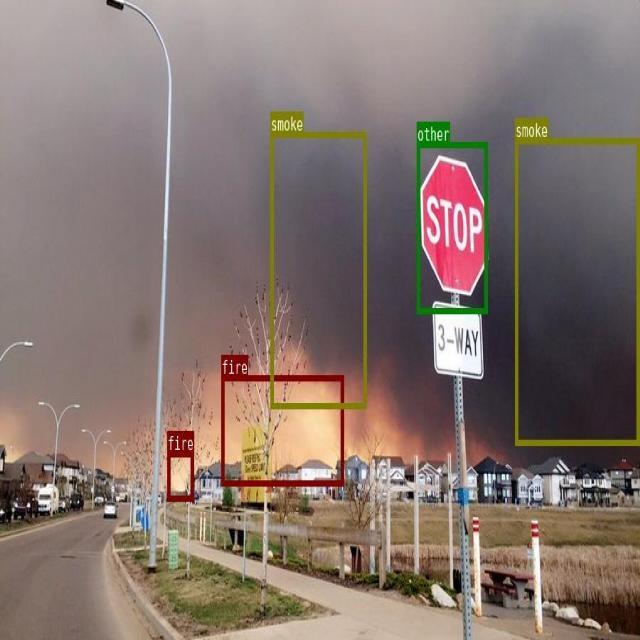fire: (221, 374, 343, 485), (167, 451, 193, 500)
smoke: (515, 138, 639, 444), (270, 131, 366, 408)
